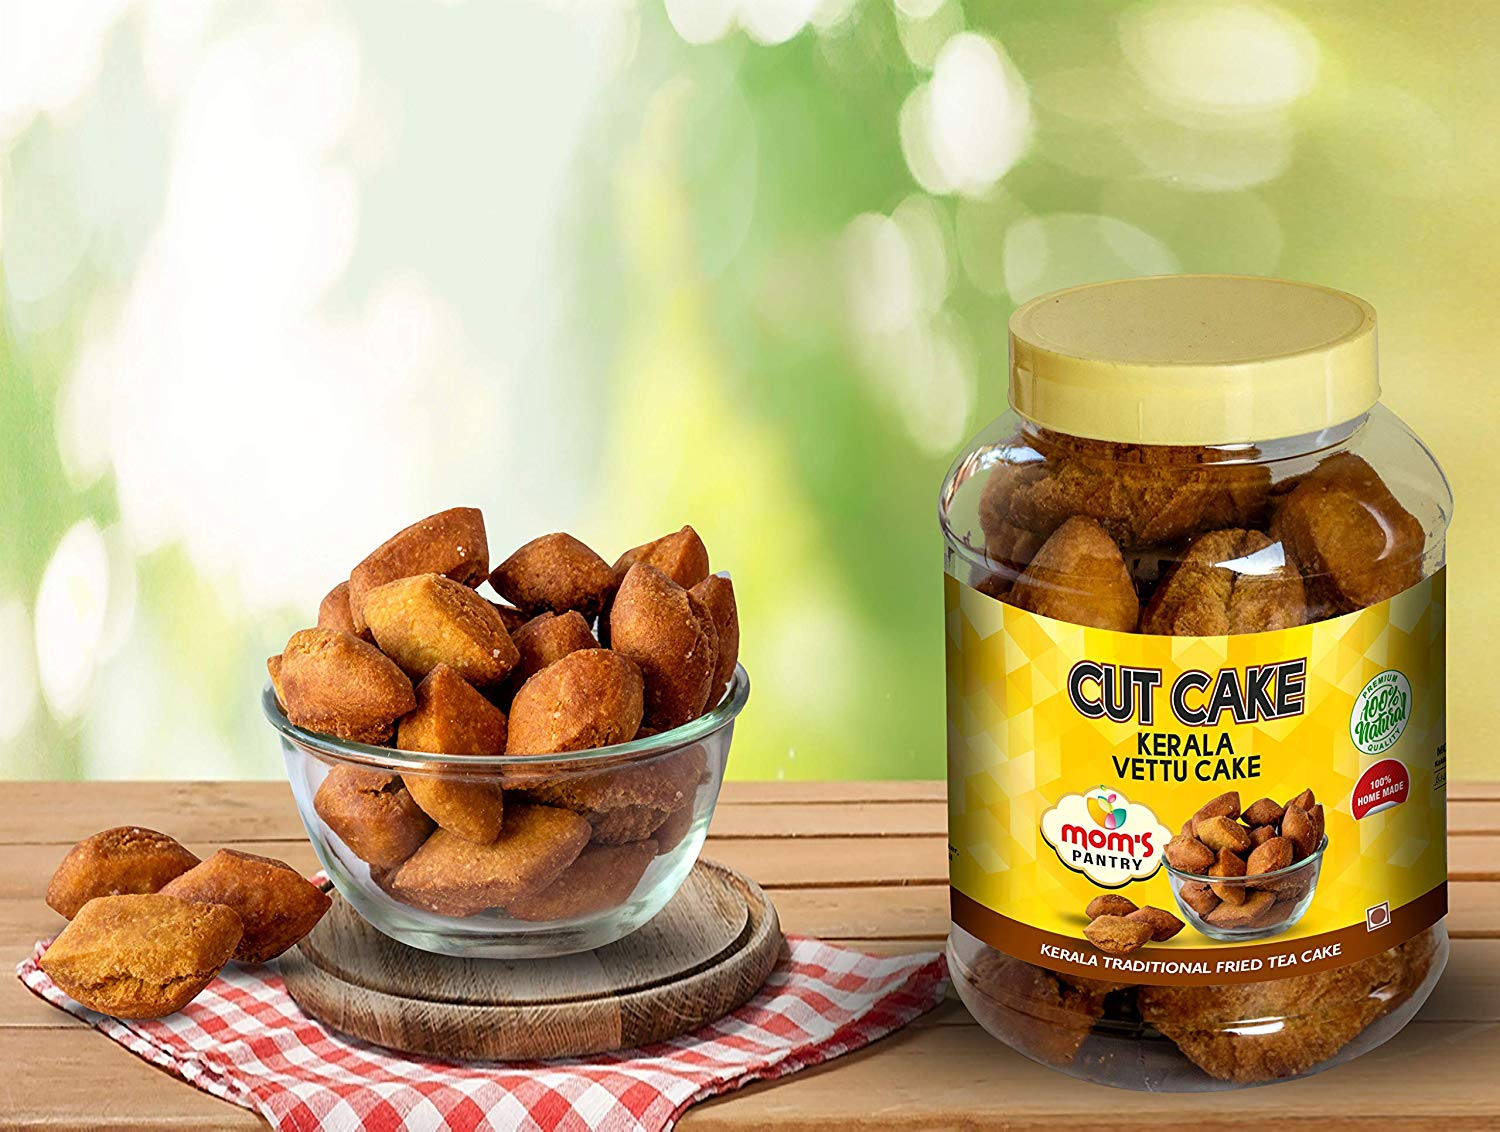nonveg_red: (1367, 898, 1391, 930)
